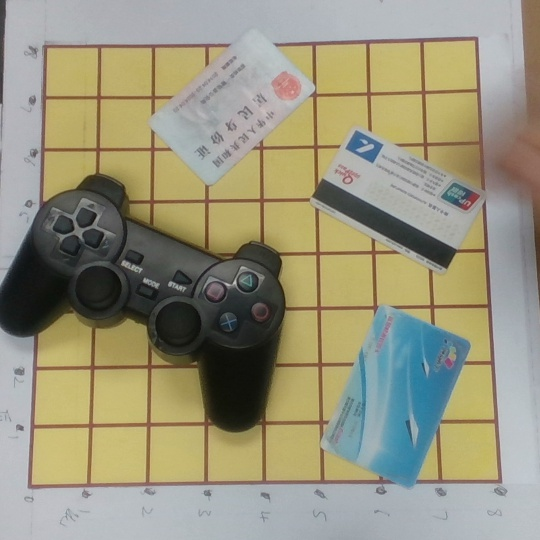card: (319, 305, 471, 490), (312, 125, 488, 274), (148, 27, 310, 185)
remote: (4, 173, 285, 434)
